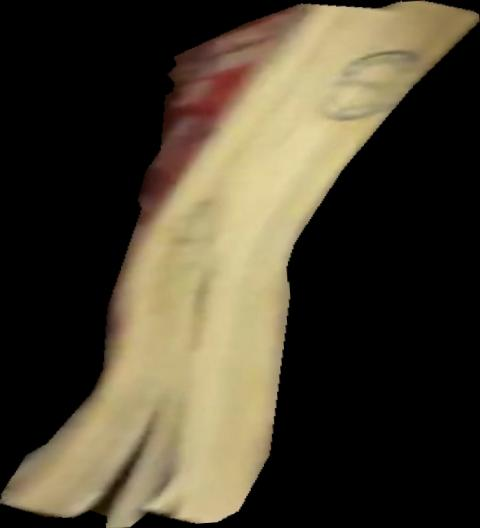backward: (1, 1, 480, 528)
